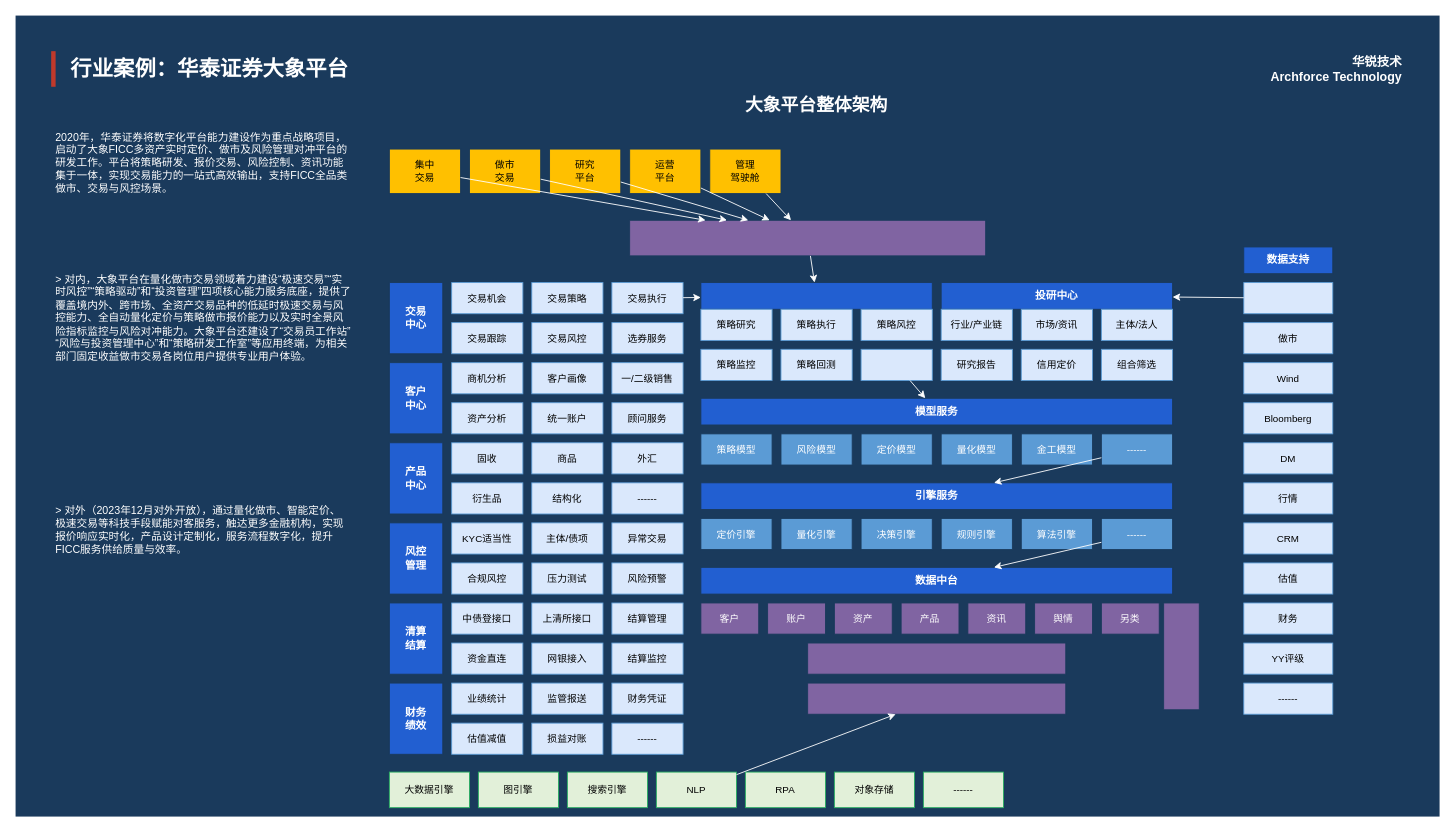
This 1454x831 diagram has some shape labels left out. The shapes that lost their labels are listed below. From the top down, each one's box as (x1, y1, x2, y2) in pixels, then its label:
(629, 219, 986, 256): 统一接入服务网关
(700, 282, 932, 309): 策略中心
(1243, 282, 1333, 314): 交易
(860, 348, 932, 380): 策略组合
(807, 642, 1066, 674): 中间层数据模型标准
(1163, 602, 1199, 710): 数据资产治理
(807, 682, 1066, 714): 多源异构数据融合枢纽
